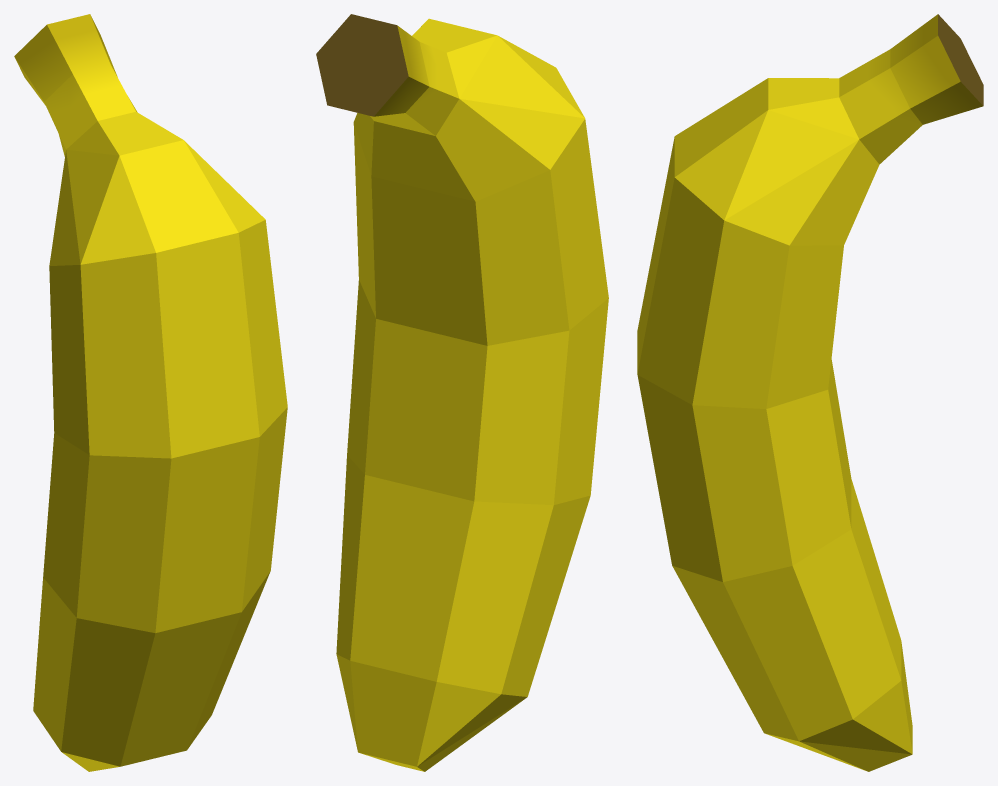
The model's file is Banana.fbx.
The picture shows the model from 3 angles, left to right: view 1: azimuth 30°, elevation 25°; view 2: azimuth 150°, elevation 25°; view 3: azimuth 270°, elevation 25°; orthographic projection. The views are drawn at different scales.
Parts seen in each view (by area): view 1: Banana_Top, Banana_All, Banana_Down; view 2: Banana_All, Banana_Top, Banana_Down; view 3: Banana_All, Banana_Top, Banana_Down.
Boxes of the visible parts, left/top/right/bottom form: Banana_Top: left=14, top=14, right=287, bottom=458; Banana_All: left=15, top=26, right=283, bottom=634; Banana_Down: left=33, top=407, right=287, bottom=771; Banana_All: left=316, top=14, right=608, bottom=771; Banana_Top: left=316, top=19, right=583, bottom=338; Banana_Down: left=341, top=280, right=589, bottom=771; Banana_All: left=637, top=14, right=983, bottom=771; Banana_Top: left=648, top=14, right=983, bottom=408; Banana_Down: left=653, top=402, right=912, bottom=770.
Size of the model in its own units: 3.16 by 11.03 by 4.67.
